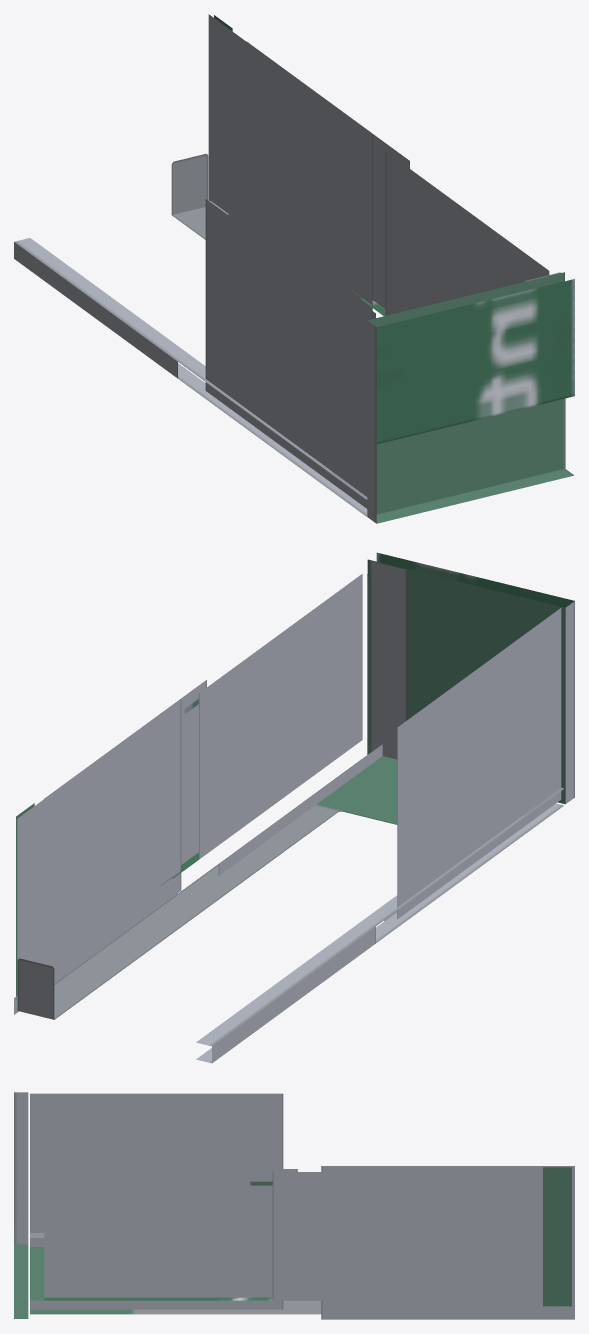
The model's file is section-1.obj.
3 renders of one model, top to bottom at view 1: azimuth 30°, elevation 25°; view 2: azimuth 150°, elevation 25°; view 3: azimuth 270°, elevation 25°, orthographic. The views are drawn at different scales.
Size of the model in its own units: 0.641 by 0.58 by 1.93.
